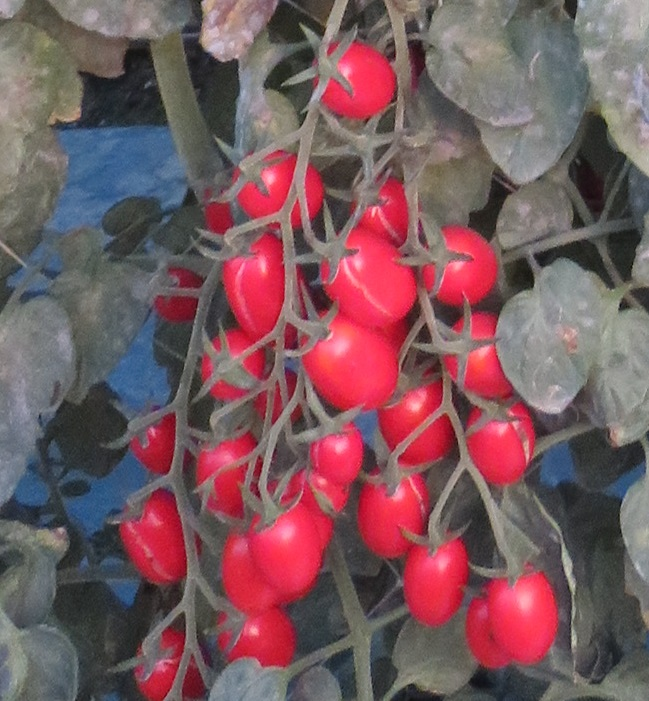red: (295, 313, 405, 410), (313, 229, 423, 322), (476, 559, 568, 661), (358, 454, 434, 561), (113, 485, 194, 584), (224, 226, 295, 335), (311, 34, 400, 115), (250, 499, 320, 593), (416, 223, 498, 303), (403, 529, 469, 628), (229, 155, 332, 218), (384, 392, 460, 470), (200, 430, 265, 521), (467, 408, 537, 487), (137, 625, 210, 698), (219, 621, 304, 669), (314, 427, 359, 478)
